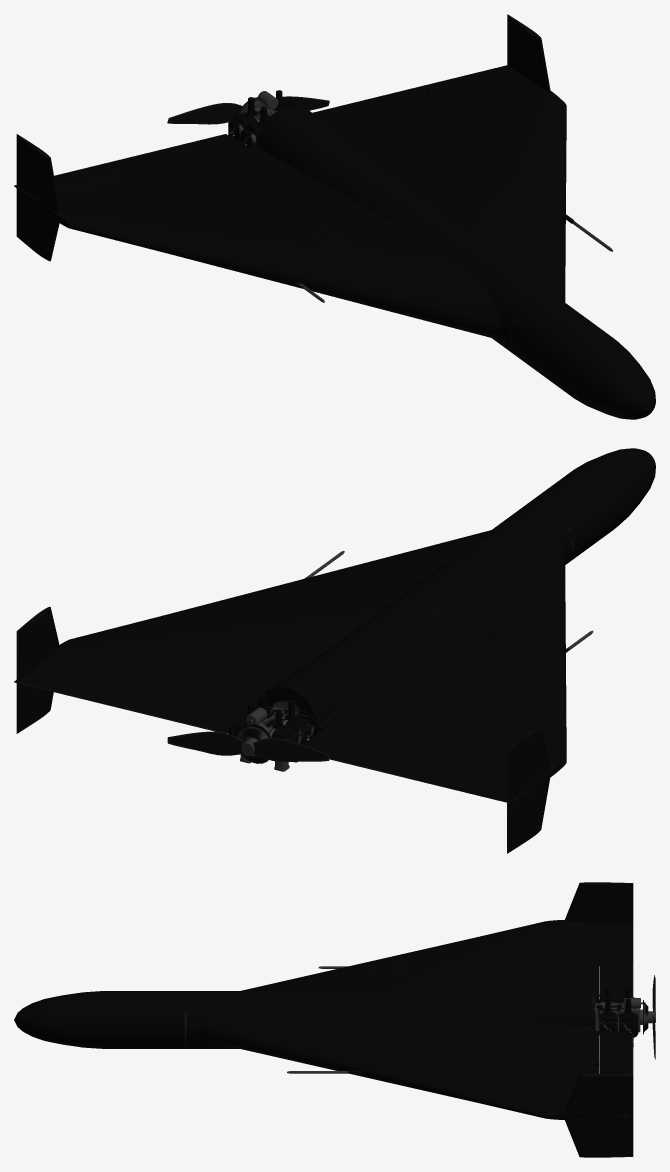
The model's file is geranium-2.glb.
3 views of the same model, one above another, from view 1: azimuth 30°, elevation 25°; view 2: azimuth 150°, elevation 25°; view 3: azimuth 270°, elevation 25° (orthographic). The views are drawn at different scales.
Visible parts, largest first — view 1: node_id8; view 2: node_id8; view 3: node_id8.
Boxes of the visible parts, x1=… form: node_id8: x1=14, y1=14, x2=655, y2=419; node_id8: x1=14, y1=448, x2=655, y2=853; node_id8: x1=14, y1=882, x2=655, y2=1157.
Bounding box in the file's own units: 0.512 × 0.1013 × 0.717.
1 material, 1 textured.
